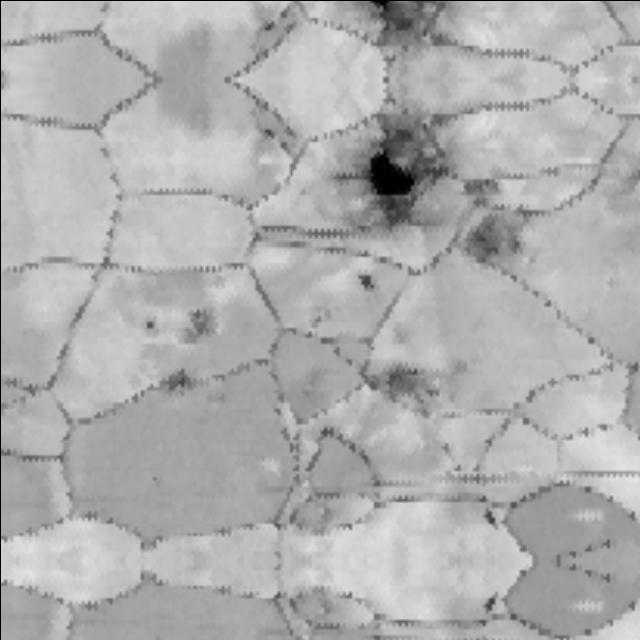good_void: (335, 143, 426, 211), (376, 357, 440, 413), (459, 216, 519, 273), (176, 296, 227, 345), (600, 149, 640, 210), (251, 117, 294, 156), (251, 3, 294, 42), (156, 369, 199, 401), (461, 178, 500, 211), (476, 504, 501, 533), (302, 307, 327, 336), (476, 589, 501, 618), (352, 270, 379, 291), (135, 317, 157, 338), (438, 440, 456, 456), (451, 464, 463, 473)
